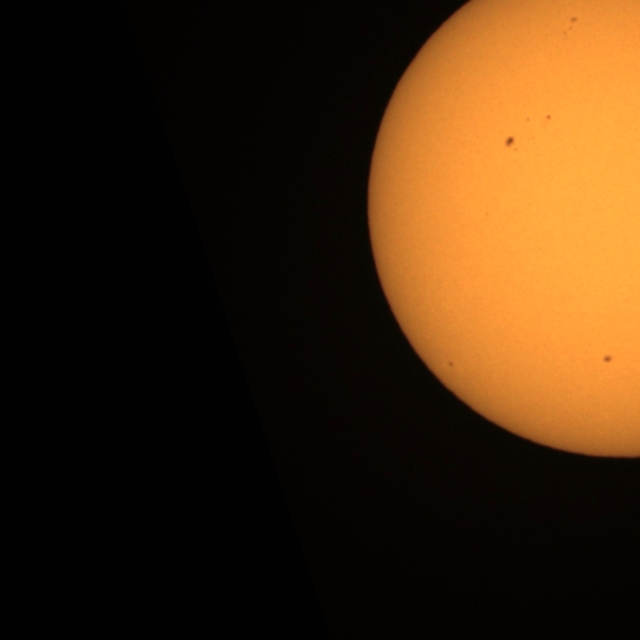sunspot: (562, 16, 578, 36), (503, 135, 518, 153), (602, 353, 614, 364), (544, 113, 552, 121), (447, 360, 454, 368), (525, 116, 531, 123)
